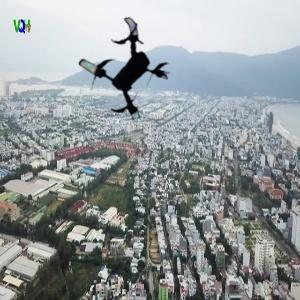drone: (71, 16, 176, 121)
